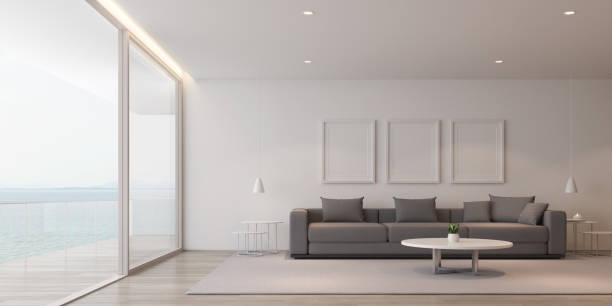side table: (237, 216, 284, 259), (569, 216, 612, 254)
small plant: (446, 220, 461, 242)
sofa: (288, 192, 569, 261)
table: (399, 235, 515, 277)
wall art: (319, 117, 378, 185), (384, 117, 443, 185), (449, 117, 507, 185)
